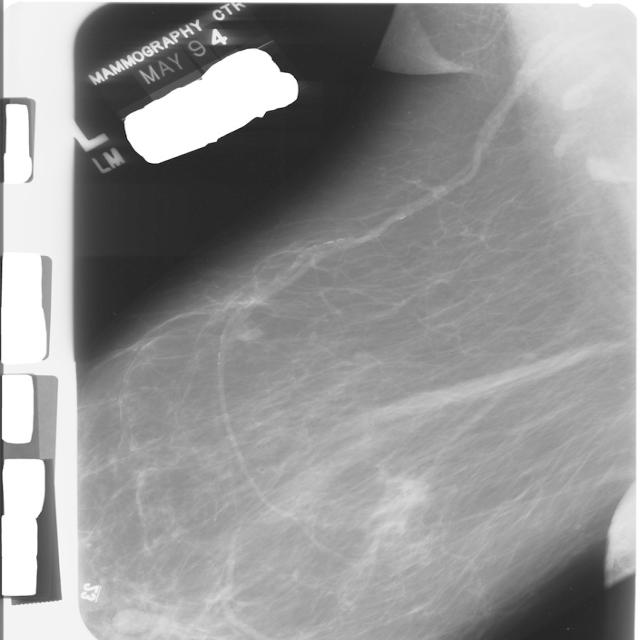tumour: (370, 468, 430, 540)
